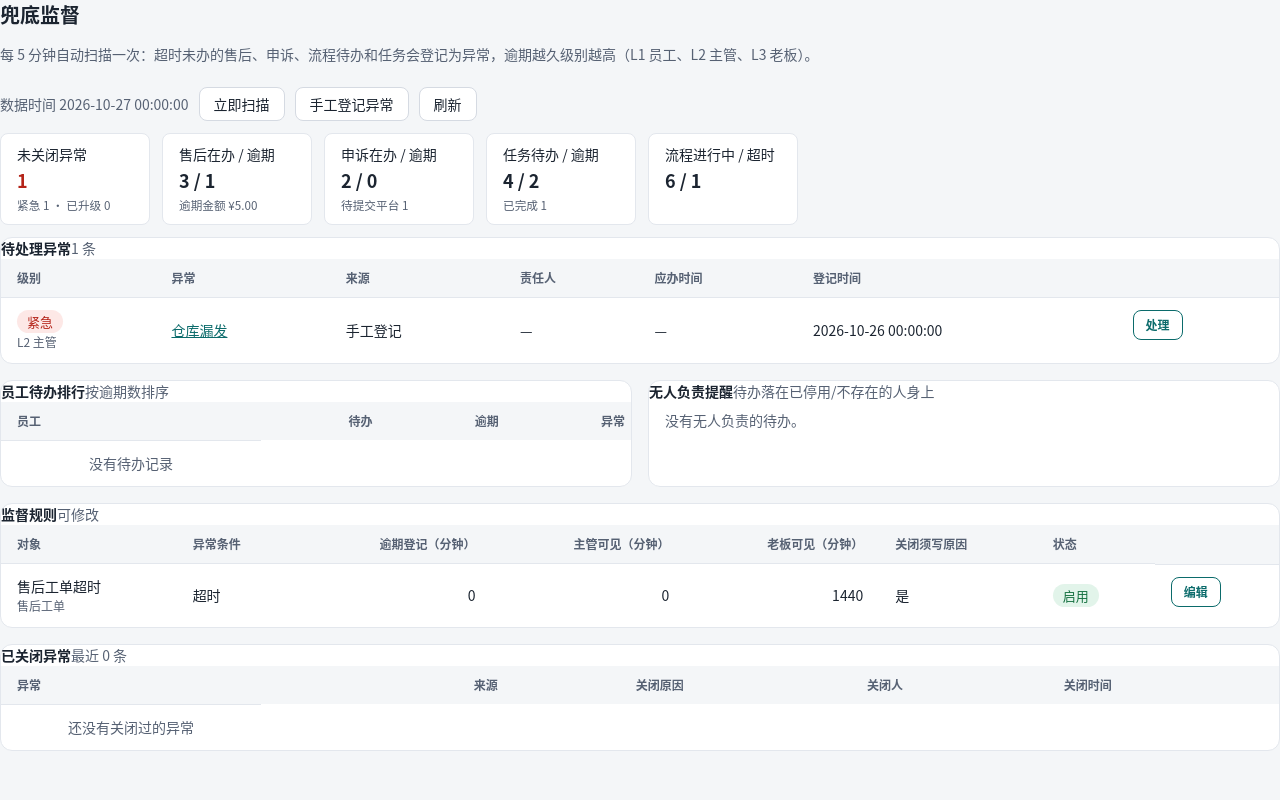
Test: 兜底监督 › 规则可编辑，老板可见时间不能早于主管
Check: the text "售后工单超时" is shown, box [17,576,101,596]
Click the button "编辑" at coordinates (1196, 592), box [1171,576,1221,606]
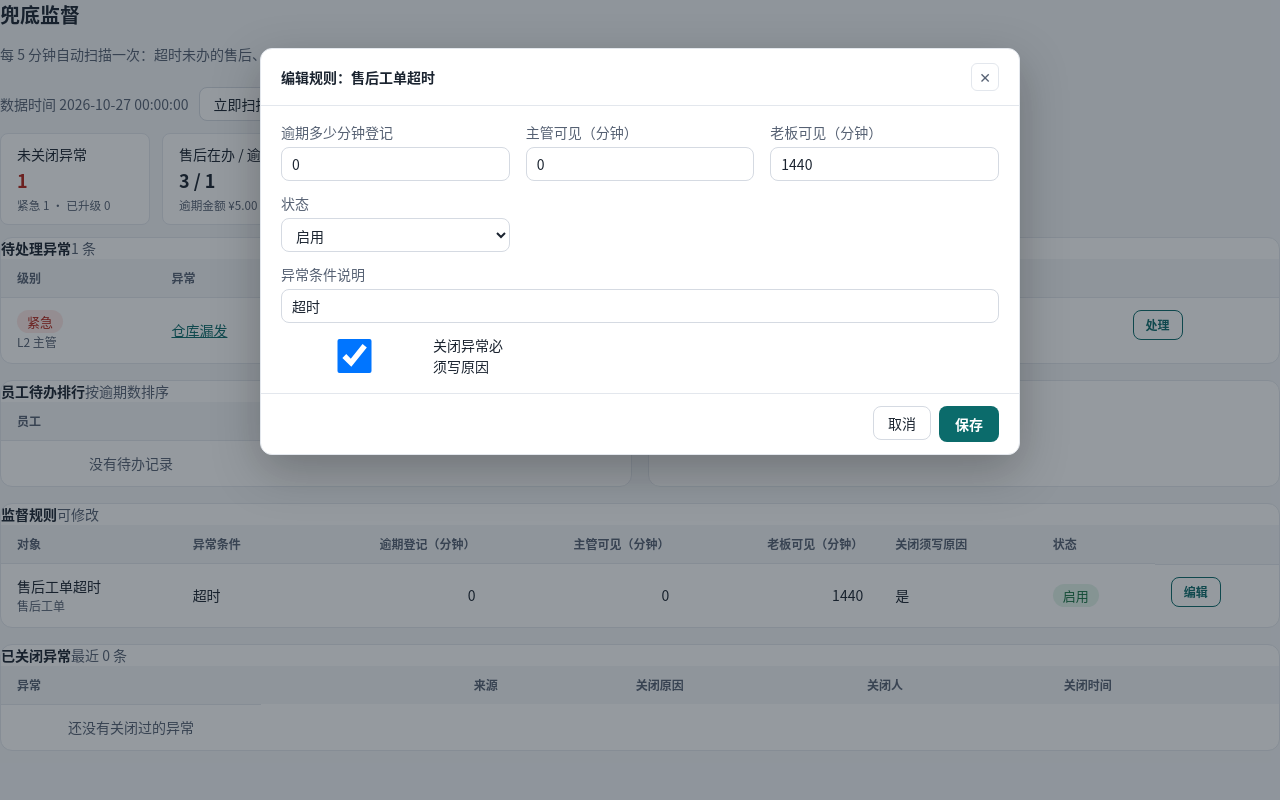
Replace the text in the field labelled "主管可见（分钟）" with "2000" at coordinates (640, 164), box [526,147,754,181]
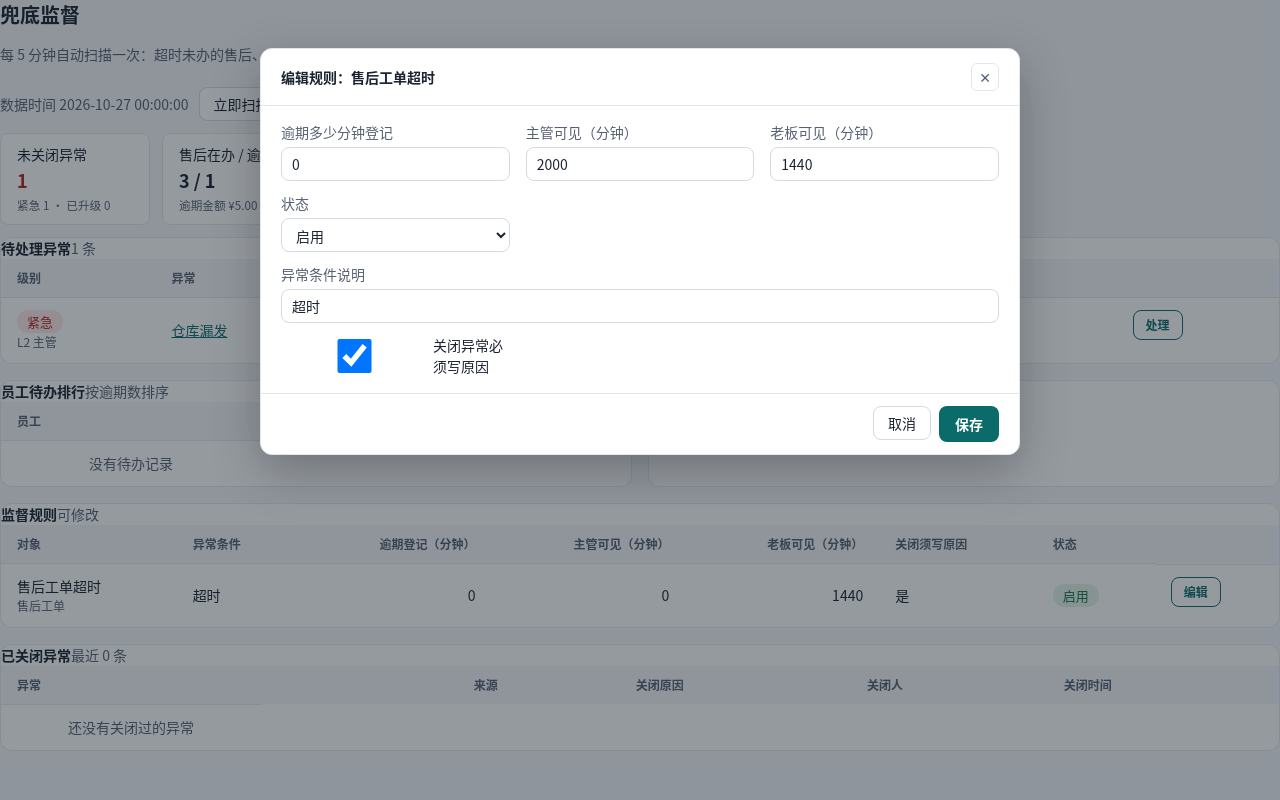
Click the button "保存" at coordinates (969, 424), box [939,406,999,442]
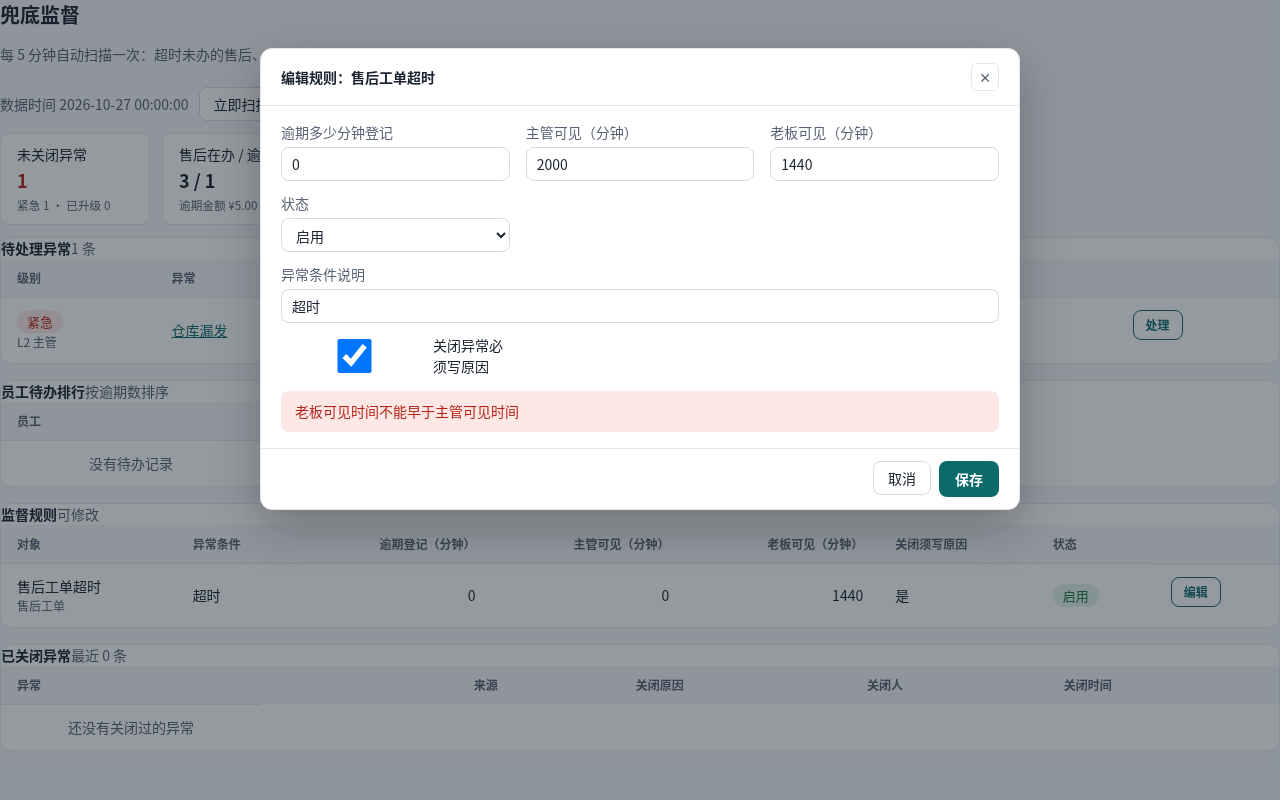
Check: the text "老板可见时间不能早于主管可见时间" is shown, box [281,391,999,432]
